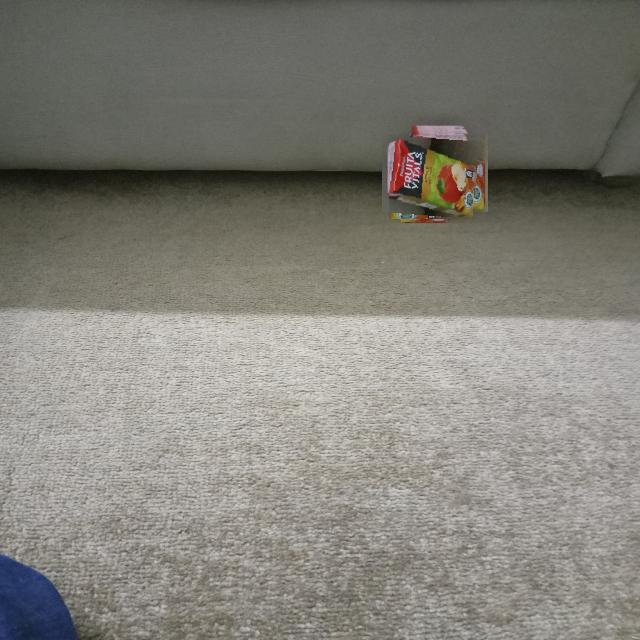Plastic: (389, 127, 481, 219)
